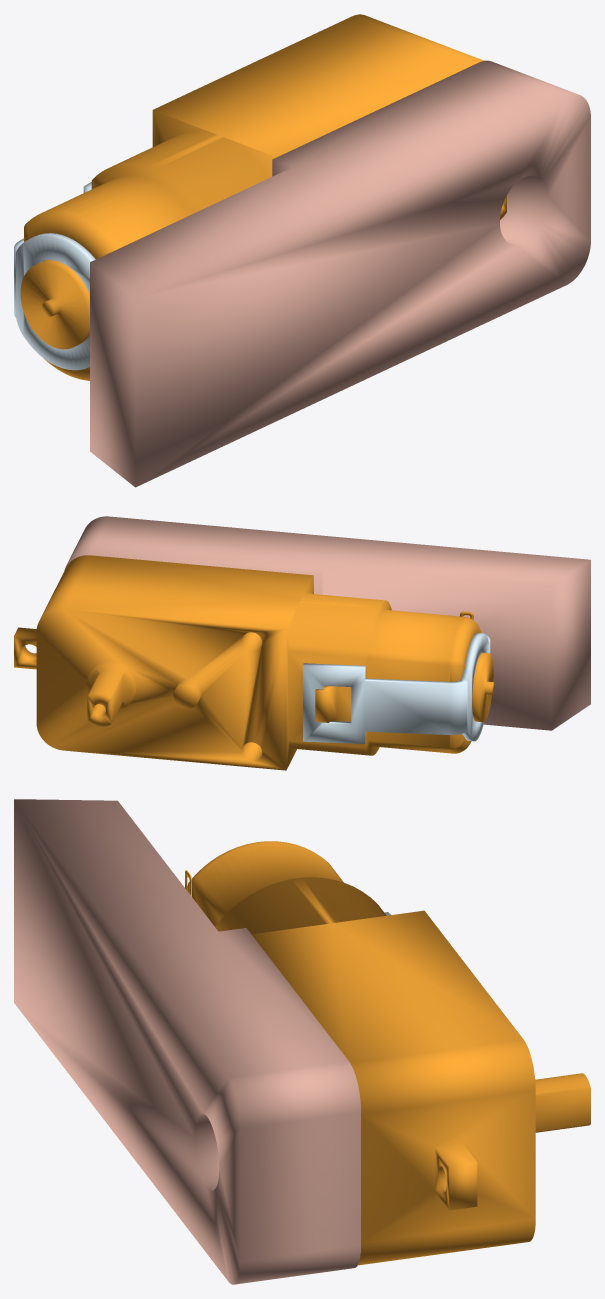
The model's file is flywheel_motor.obj.
The picture shows the model from 3 angles, top to bottom: view 1: azimuth 30°, elevation 25°; view 2: azimuth 150°, elevation 25°; view 3: azimuth 270°, elevation 25°; orthographic projection. The views are drawn at different scales.
Size of the model in its own units: 0.0713 by 0.023 by 0.0591.
